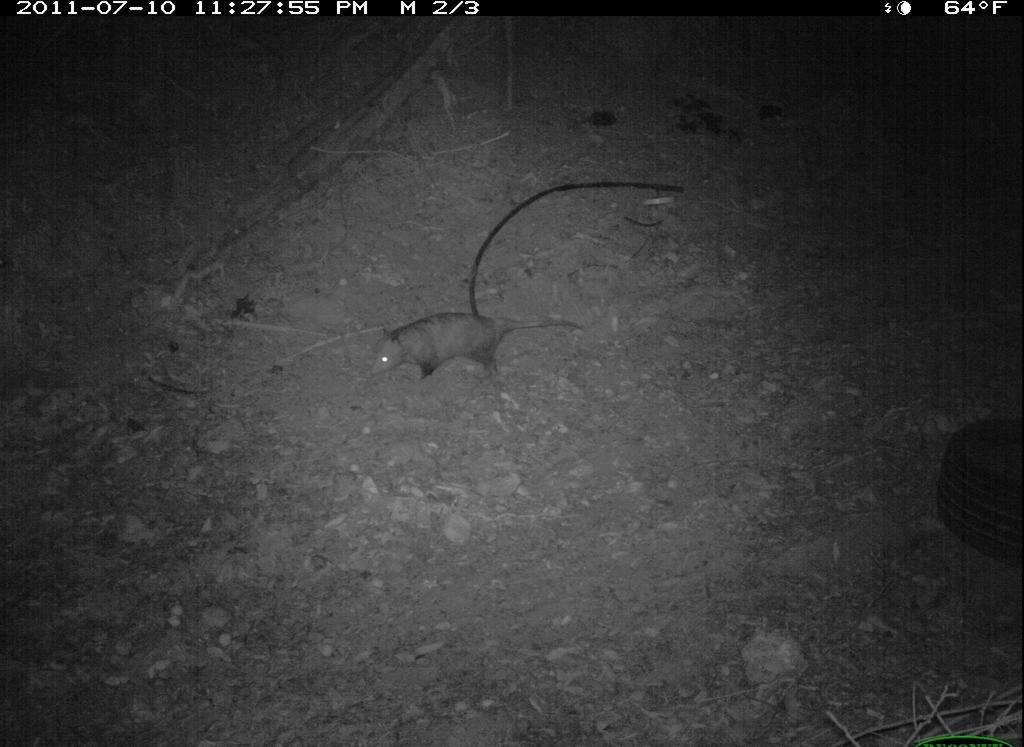opossum: (365, 305, 591, 393)
